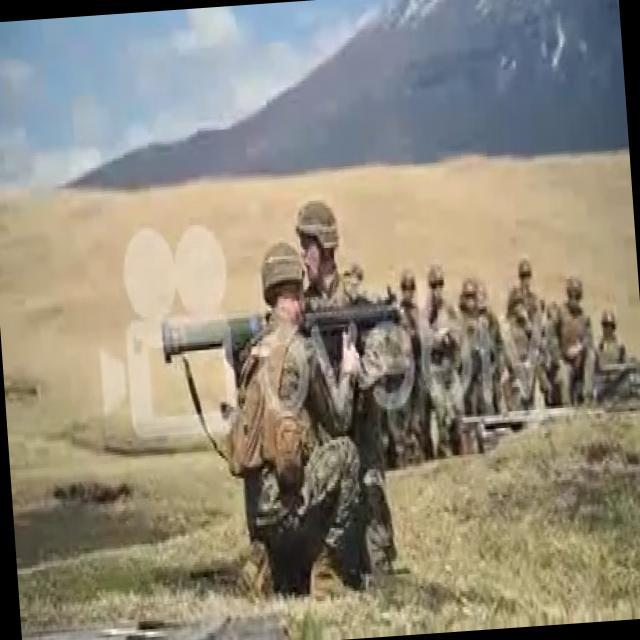rocket: (162, 290, 402, 362)
